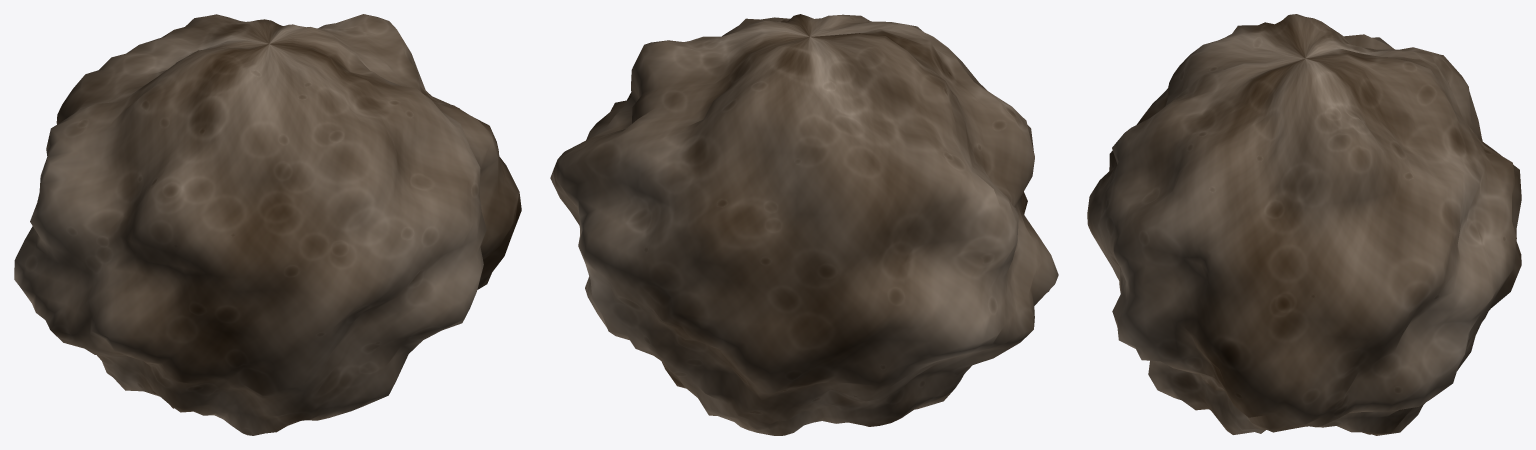
Rendered from asteroid-01.glb.
3 renders of one model, left to right at view 1: azimuth 30°, elevation 25°; view 2: azimuth 150°, elevation 25°; view 3: azimuth 270°, elevation 25°, orthographic. The views are drawn at different scales.
Visible parts, largest first — view 1: asteroid-01 | nucleus; view 2: asteroid-01 | nucleus; view 3: asteroid-01 | nucleus.
Boxes of the visible parts, x1=… form: asteroid-01 | nucleus: x1=14, y1=14, x2=521, y2=435; asteroid-01 | nucleus: x1=550, y1=14, x2=1058, y2=435; asteroid-01 | nucleus: x1=1087, y1=14, x2=1521, y2=435.
Size of the model in its own units: 2.14 by 1.69 by 1.81.
Materials: 1 (1 with a texture image).
